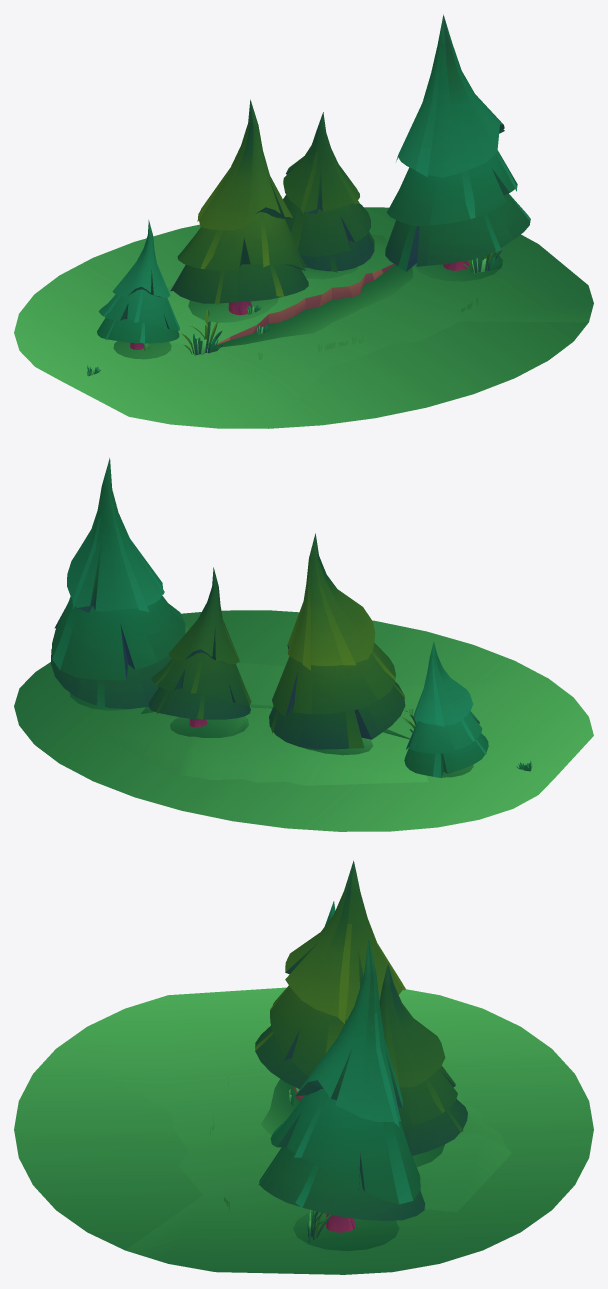
The model's file is environment.glb.
The picture shows the model from 3 angles, top to bottom: view 1: azimuth 30°, elevation 25°; view 2: azimuth 150°, elevation 25°; view 3: azimuth 270°, elevation 25°; orthographic projection. The views are drawn at different scales.
Parts seen in each view (by area): view 1: ground, Pine_Tree_04, Pine_Tree_02, Pine_Tree_03, Pine_Tree_01; view 2: ground, Pine_Tree_04, Pine_Tree_02, Pine_Tree_03, Pine_Tree_01; view 3: ground, Pine_Tree_04, Pine_Tree_02, Pine_Tree_03.
Part boxes in pixels (bbox=[...]): ground: bbox=[14, 207, 593, 428]; Pine_Tree_04: bbox=[385, 14, 530, 271]; Pine_Tree_02: bbox=[170, 99, 308, 315]; Pine_Tree_03: bbox=[283, 112, 374, 272]; Pine_Tree_01: bbox=[97, 220, 179, 349]; ground: bbox=[14, 610, 593, 831]; Pine_Tree_04: bbox=[50, 458, 185, 709]; Pine_Tree_02: bbox=[269, 533, 405, 749]; Pine_Tree_03: bbox=[148, 567, 251, 727]; Pine_Tree_01: bbox=[404, 641, 488, 778]; ground: bbox=[14, 987, 593, 1274]; Pine_Tree_04: bbox=[258, 938, 425, 1232]; Pine_Tree_02: bbox=[255, 860, 405, 1089]; Pine_Tree_03: bbox=[379, 964, 467, 1155].
Size of the model in its own units: 8.76 by 4.08 by 7.39.
1 material, 1 textured.
